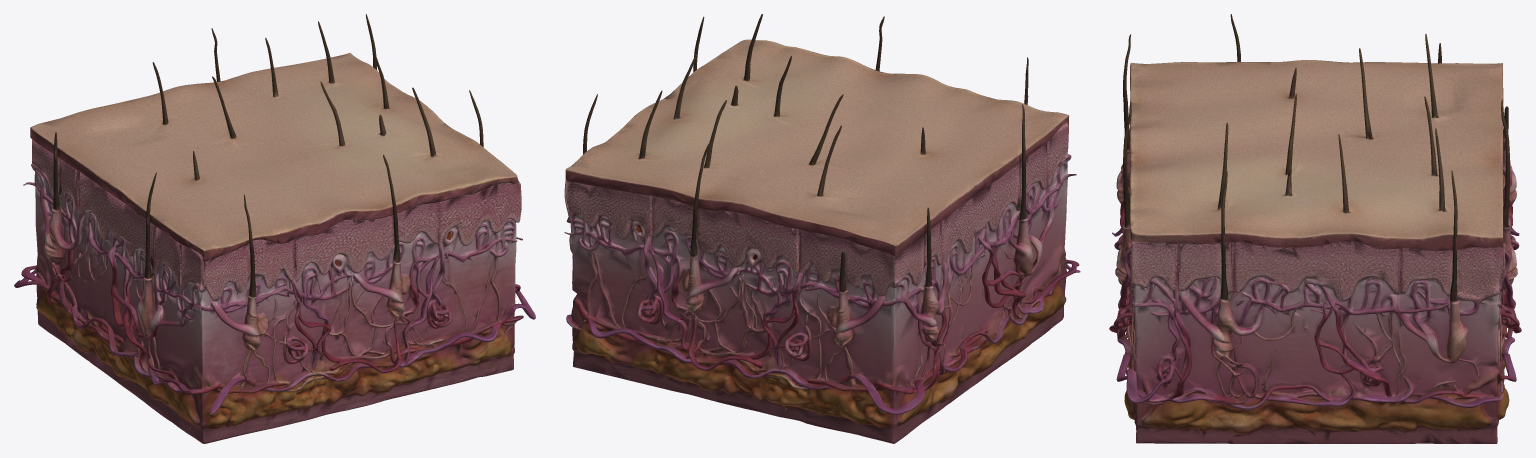
File: skin.glb
3 views of the same model, side by side, from view 1: azimuth 30°, elevation 25°; view 2: azimuth 150°, elevation 25°; view 3: azimuth 270°, elevation 25° (orthographic). The views are drawn at different scales.
Visible parts, largest first — view 1: tripo_node_d59d47f4-9a87-4b89-88e4-6e98a3e0d928; view 2: tripo_node_d59d47f4-9a87-4b89-88e4-6e98a3e0d928; view 3: tripo_node_d59d47f4-9a87-4b89-88e4-6e98a3e0d928.
Part boxes in pixels (x1,y1,x2,y2): tripo_node_d59d47f4-9a87-4b89-88e4-6e98a3e0d928: [14, 14, 535, 443]; tripo_node_d59d47f4-9a87-4b89-88e4-6e98a3e0d928: [564, 14, 1080, 443]; tripo_node_d59d47f4-9a87-4b89-88e4-6e98a3e0d928: [1109, 14, 1521, 443].
Size of the model in its own units: 0.9999 by 0.7135 by 0.9185.
Materials: 1 (1 with a texture image).
